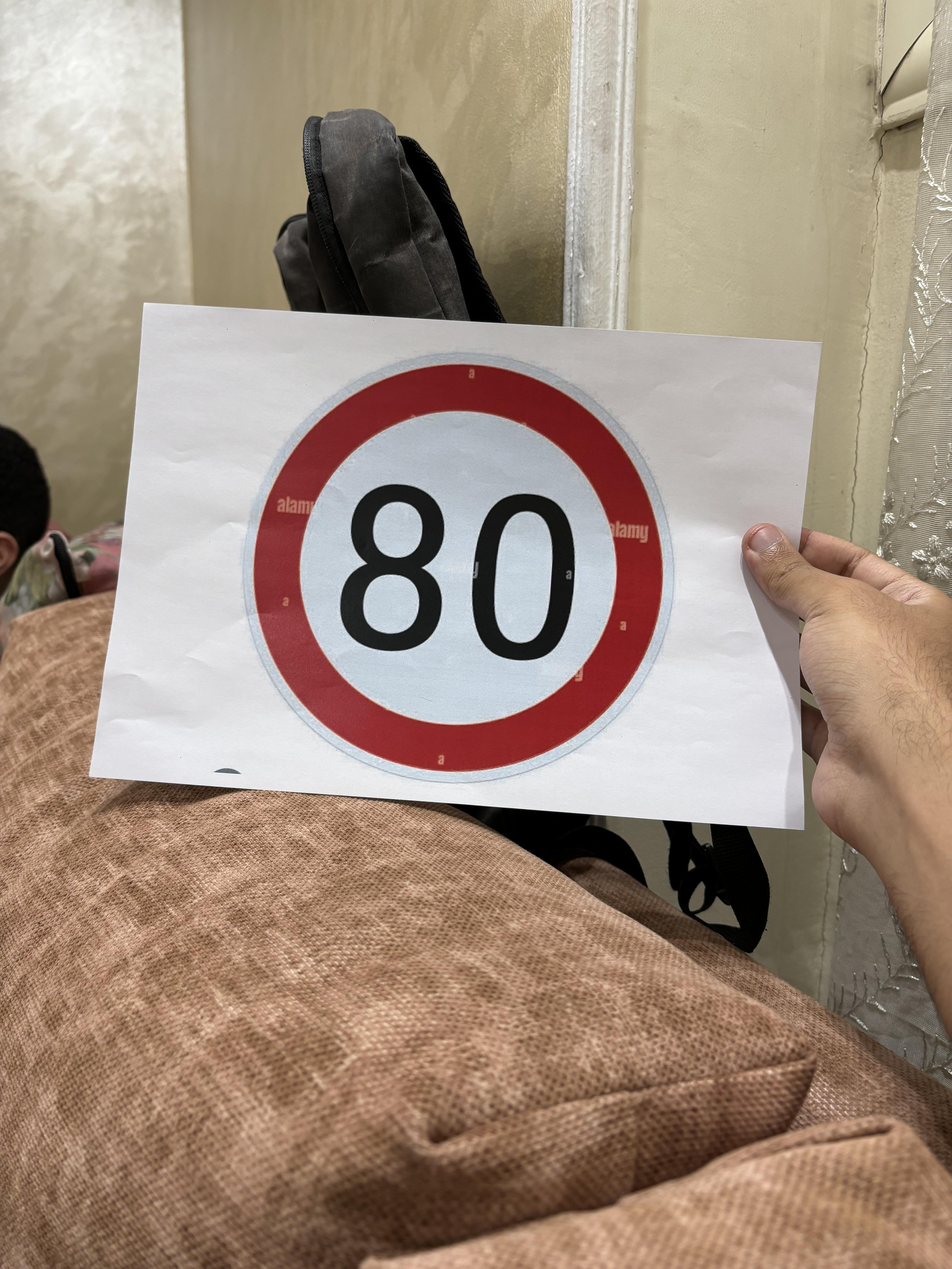80-Speed: (243, 354, 682, 780)
